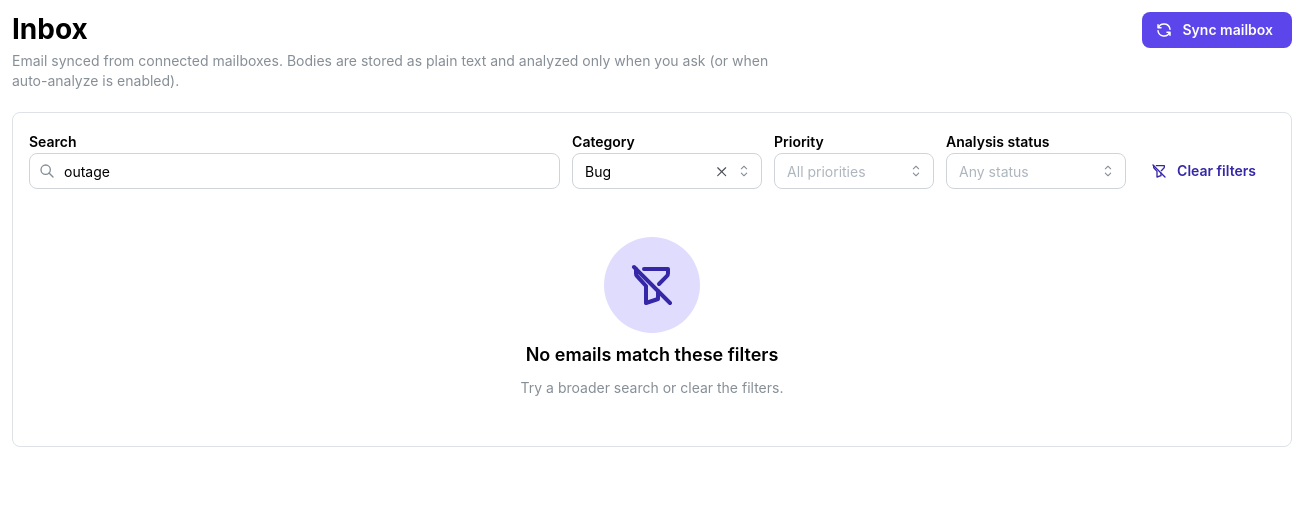
it: <InboxPage> filters and pagination › clears every filter and the search box
Click the button "Clear filters": (1207, 171) [1138, 153, 1275, 189]
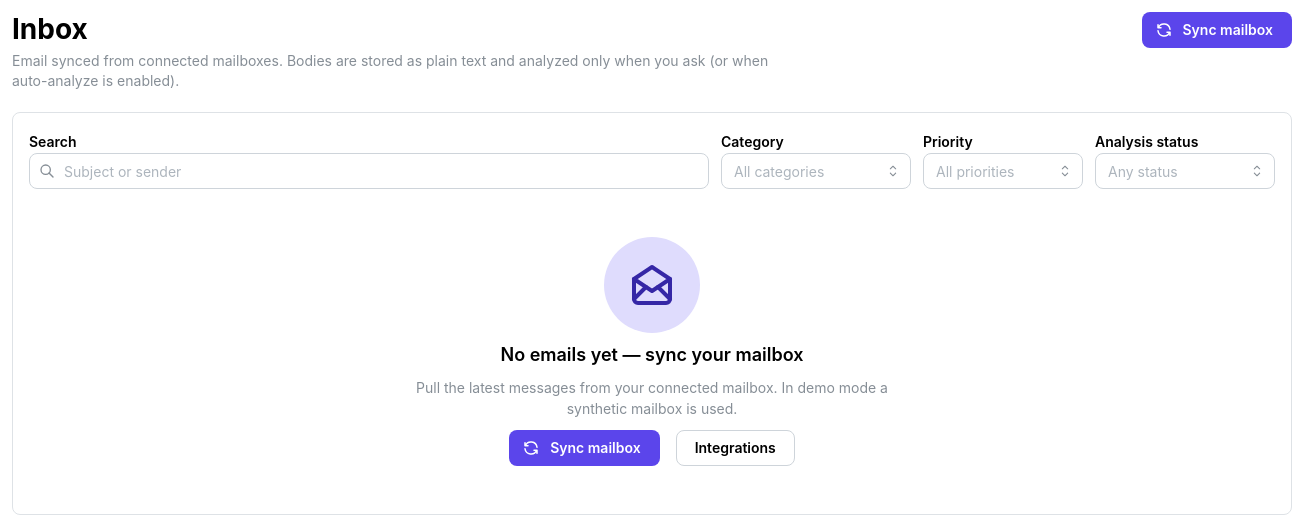
Result: the field labelled "Search" is empty at [29, 153, 709, 189]
Result: the text "No emails yet — sync your mailbox" is shown at [500, 343, 804, 367]
